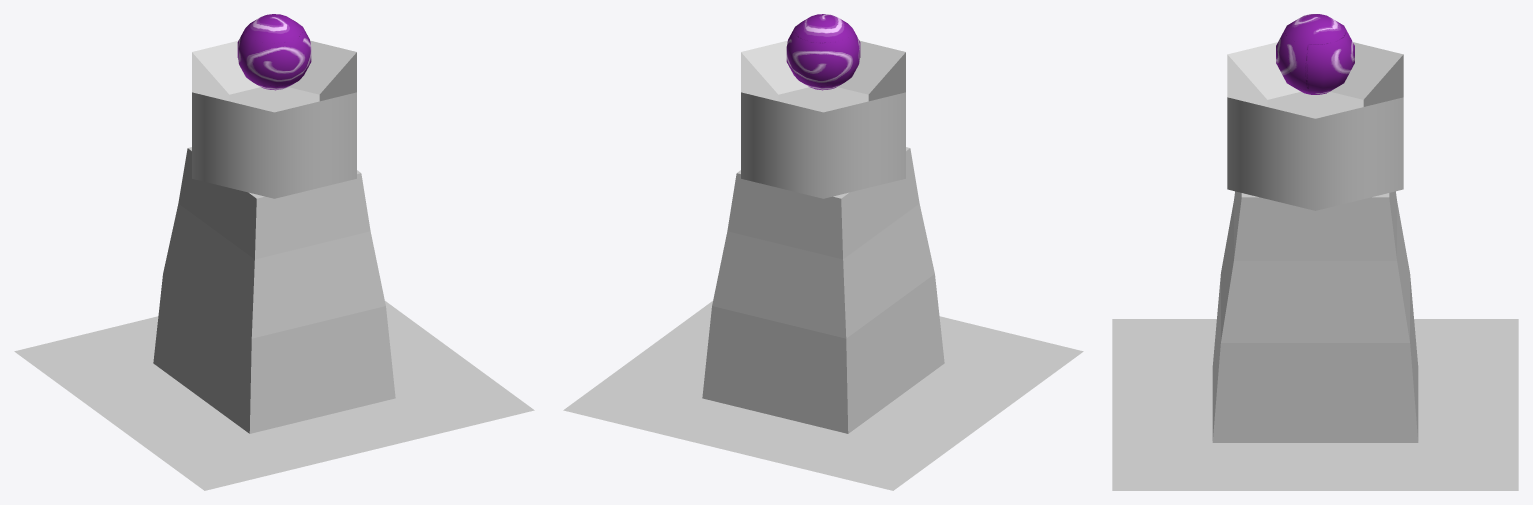
The model's file is ArcaneTower.FBX.
The picture shows the model from 3 angles, left to right: view 1: azimuth 30°, elevation 25°; view 2: azimuth 150°, elevation 25°; view 3: azimuth 270°, elevation 25°; orthographic projection. The views are drawn at different scales.
Visible parts, largest first — view 1: Box001, Plane001, Cylinder001, Sphere001; view 2: Box001, Plane001, Cylinder001, Sphere001; view 3: Box001, Plane001, Cylinder001, Sphere001.
Boxes of the visible parts, x1,y1,x2,y2 form: Box001: (153,147,395,433); Plane001: (14,301,534,490); Cylinder001: (192,40,356,198); Sphere001: (237,14,311,90); Box001: (702,147,944,433); Plane001: (563,301,1083,490); Cylinder001: (741,40,905,198); Sphere001: (786,14,860,90); Box001: (1212,191,1418,442); Plane001: (1112,319,1518,490); Cylinder001: (1227,42,1403,210); Sphere001: (1276,14,1354,94).
Bounding box in the file's own units: 2 × 2.1 × 2.
